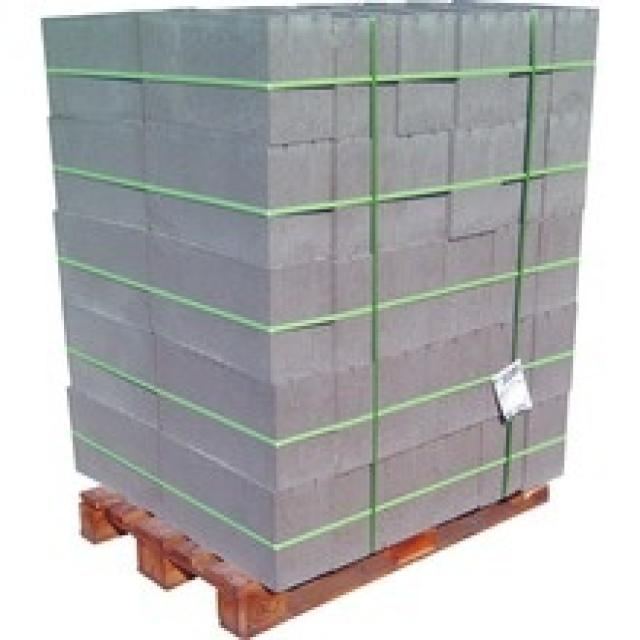bricks: (44, 0, 593, 586)
